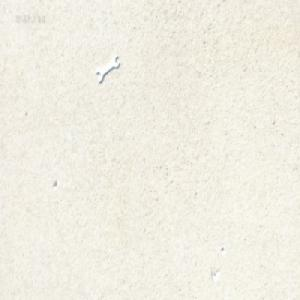Wrench: (96, 54, 119, 83)
